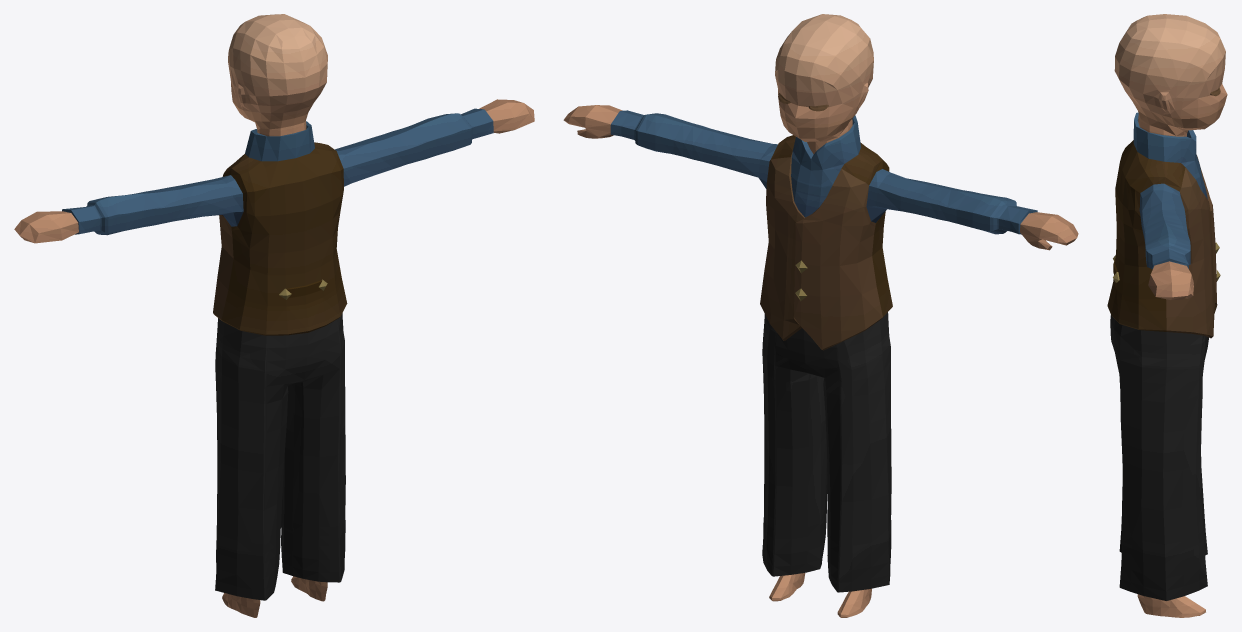
Rendered from NPC_AP31YoungHuman.glb.
The picture shows the model from 3 angles, left to right: view 1: azimuth 30°, elevation 25°; view 2: azimuth 150°, elevation 25°; view 3: azimuth 270°, elevation 25°; orthographic projection.
Parts seen in each view (by area): view 1: NPC_AP31YoungHuman; view 2: NPC_AP31YoungHuman; view 3: NPC_AP31YoungHuman.
Part boxes in pixels (bbox=[...]): NPC_AP31YoungHuman: bbox=[14, 14, 534, 617]; NPC_AP31YoungHuman: bbox=[563, 14, 1078, 617]; NPC_AP31YoungHuman: bbox=[1107, 14, 1227, 617].
Size of the model in its own units: 13.83 by 14.94 by 2.81.
Materials: 1 (1 with a texture image).
